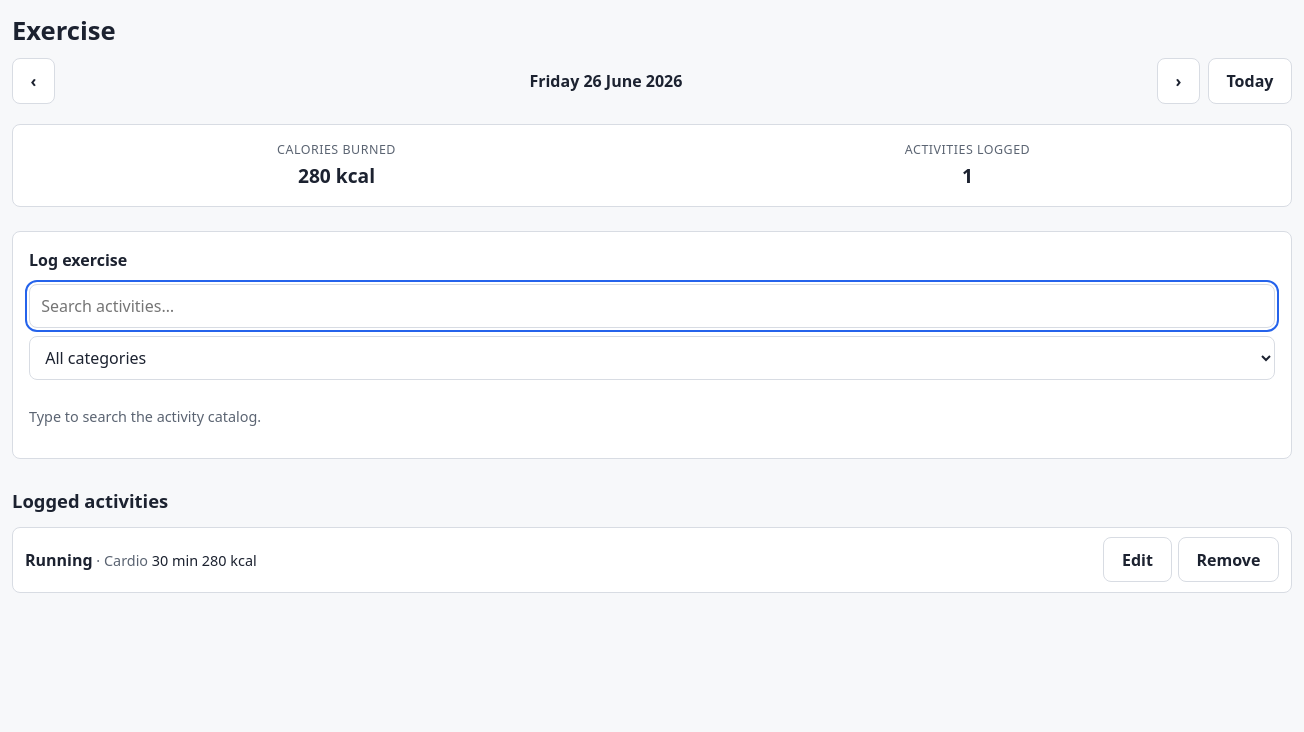
Test: ExercisePage › shows a duration form after selecting an exercise from results
Type "run" into the search field at (652, 306), box x1=29 y1=284 x2=1275 y2=328
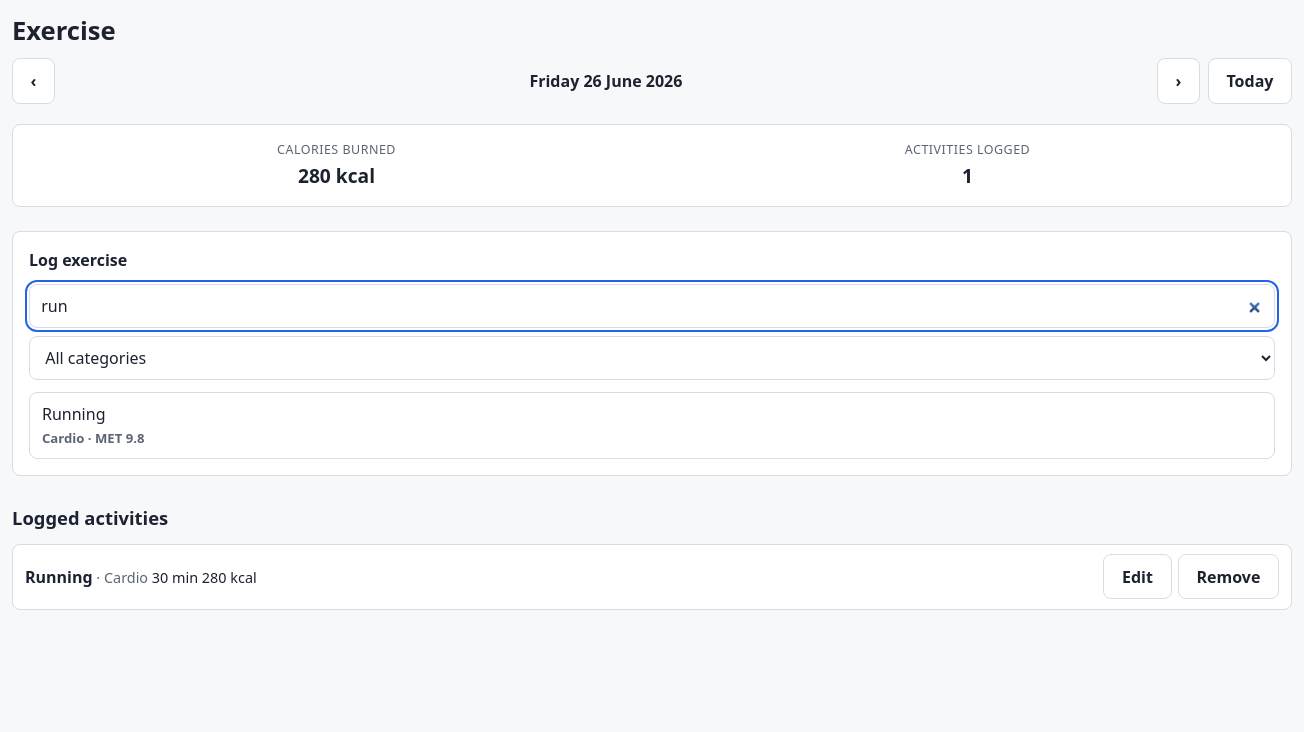
Click the button "Running Cardio · MET 9.8" at (74, 414), box x1=29 y1=392 x2=1275 y2=459
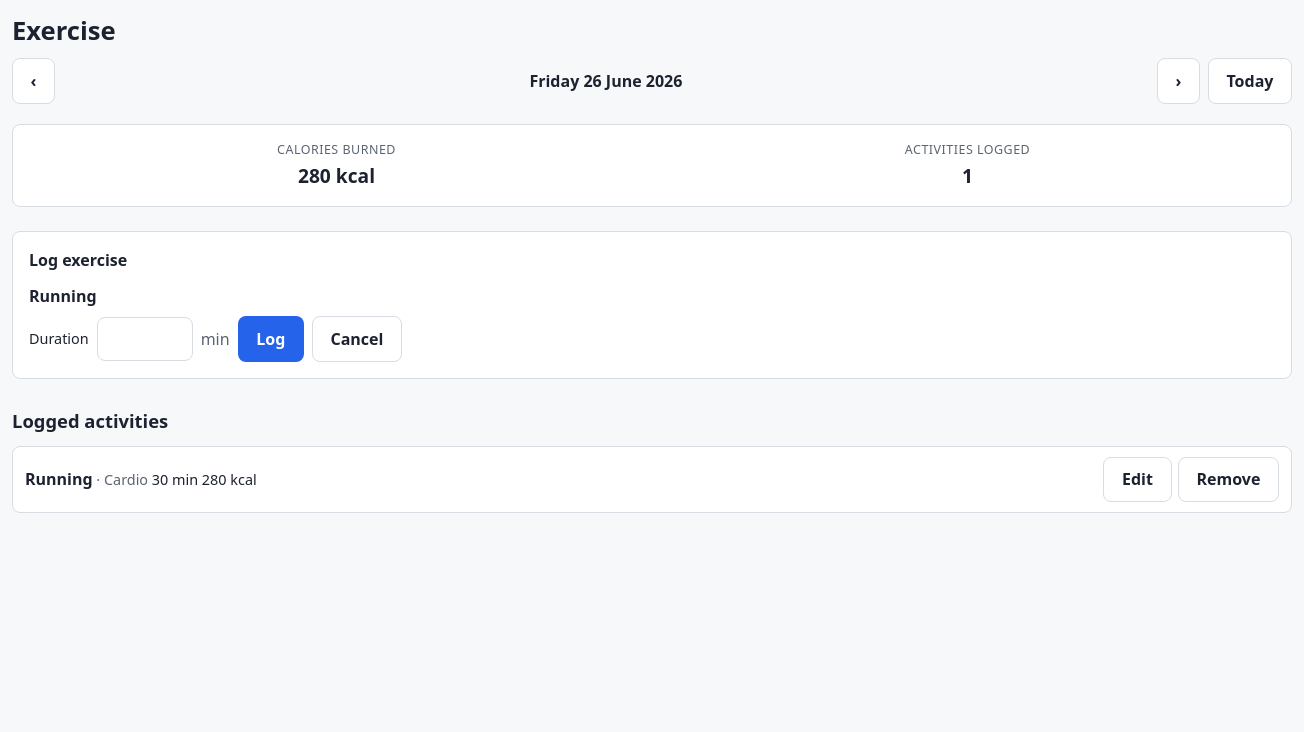
Now the number field labelled "Duration" is shown, box x1=97 y1=317 x2=193 y2=361
